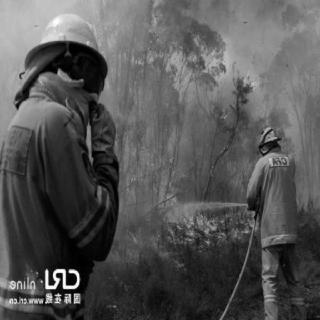Fire: (106, 130, 260, 267)
